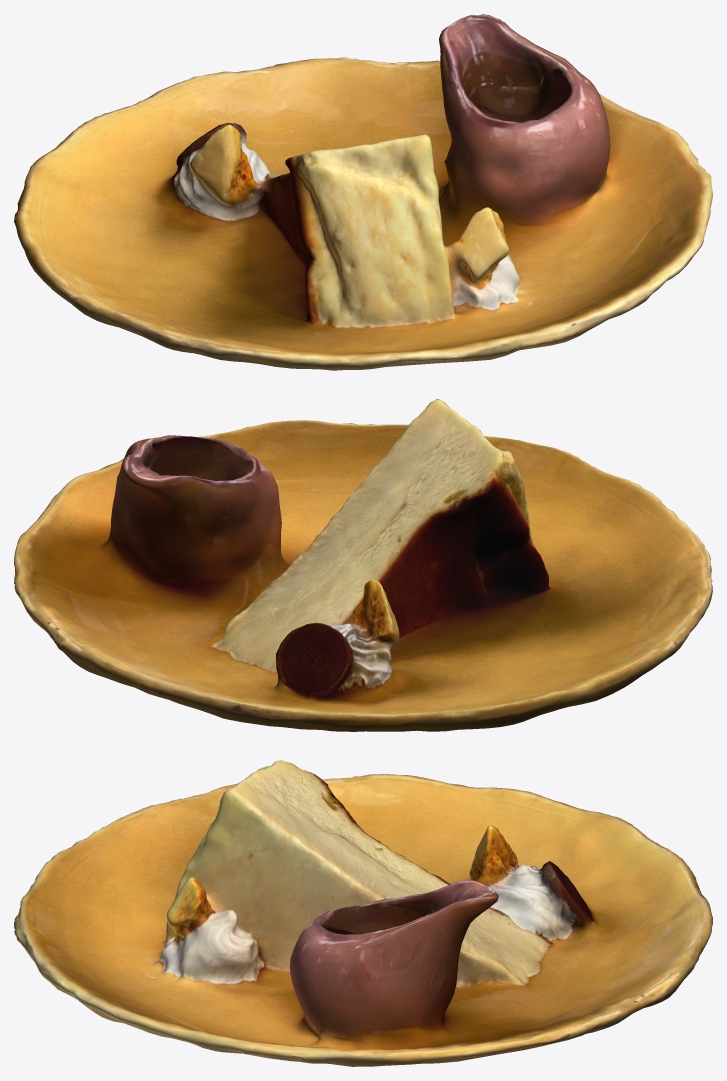
3 renders of one model, top to bottom at view 1: azimuth 30°, elevation 25°; view 2: azimuth 150°, elevation 25°; view 3: azimuth 270°, elevation 25°, orthographic.
Parts seen in each view (by area): view 1: mesh; view 2: mesh; view 3: mesh.
Boxes of the visible parts, bbox=[...] form: mesh: bbox=[14, 14, 712, 370]; mesh: bbox=[14, 399, 712, 731]; mesh: bbox=[14, 760, 712, 1066].
Size of the model in its own units: 0.2613 by 0.0795 by 0.261.
Materials: 1 (1 with a texture image).
